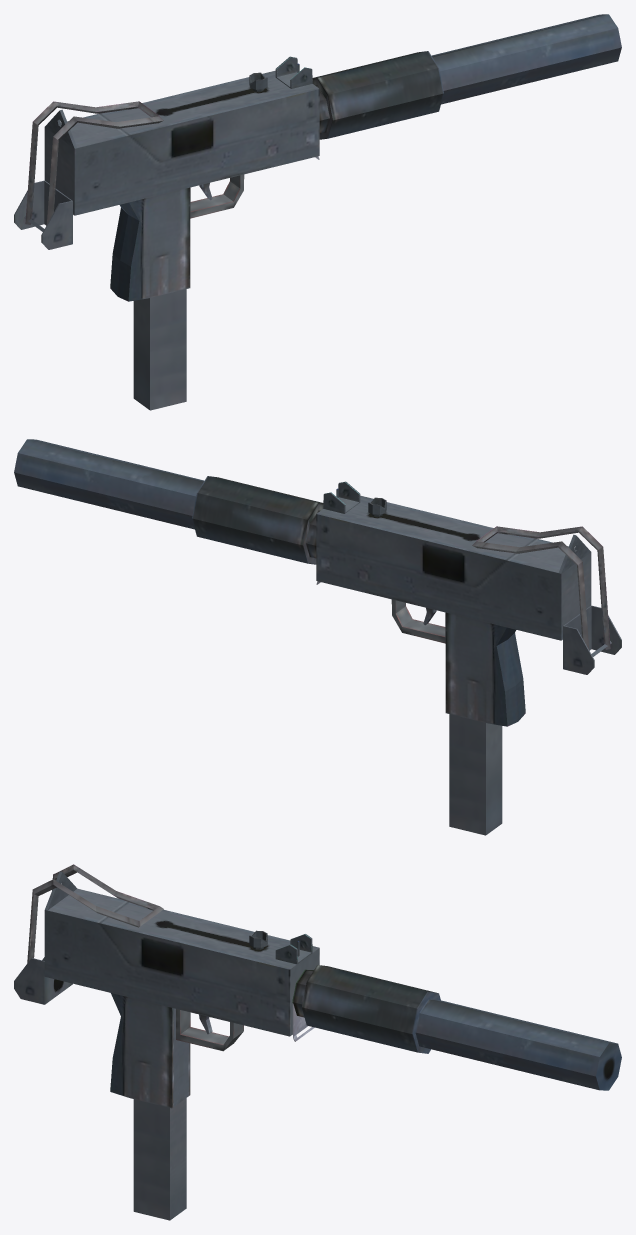
Rendered from mac 10 kabuum.fbx.
3 views of the same model, one above another, from view 1: azimuth 30°, elevation 25°; view 2: azimuth 150°, elevation 25°; view 3: azimuth 330°, elevation 25° (orthographic).
Visible parts, largest first — view 1: Circle; view 2: Circle; view 3: Circle.
Part boxes in pixels (x1=…): Circle: x1=14, y1=14, x2=621, y2=410; Circle: x1=14, y1=439, x2=621, y2=835; Circle: x1=14, y1=864, x2=621, y2=1220.
Size of the model in its own units: 458 by 237 by 42.62.
1 material, 1 textured.
